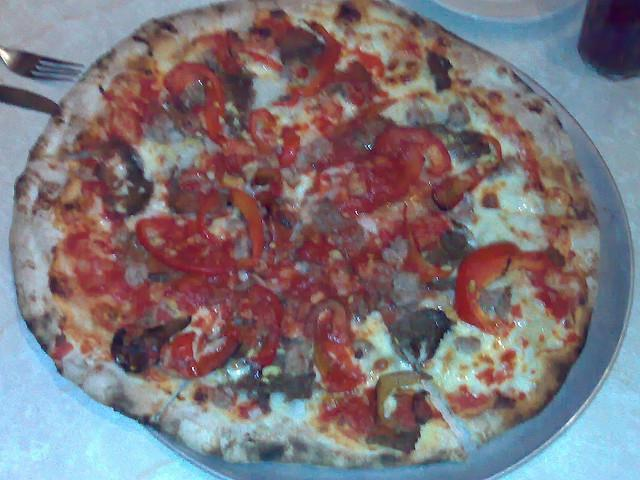bell pepper: (454, 241, 549, 338), (134, 216, 240, 276), (274, 20, 342, 106), (164, 60, 226, 144), (371, 123, 452, 177), (312, 313, 362, 392), (242, 286, 284, 366), (228, 188, 264, 270), (186, 339, 238, 377), (252, 166, 283, 210), (220, 138, 254, 170), (280, 125, 300, 168), (482, 134, 502, 172)
mushroom: (110, 314, 192, 374), (100, 142, 154, 216), (389, 307, 457, 360), (424, 124, 491, 168), (376, 372, 420, 436), (256, 370, 316, 416), (309, 200, 364, 248), (222, 72, 258, 132), (476, 285, 513, 322), (280, 34, 318, 64), (169, 180, 200, 214), (313, 299, 347, 329), (428, 50, 452, 90), (180, 82, 206, 112), (449, 247, 467, 260)
